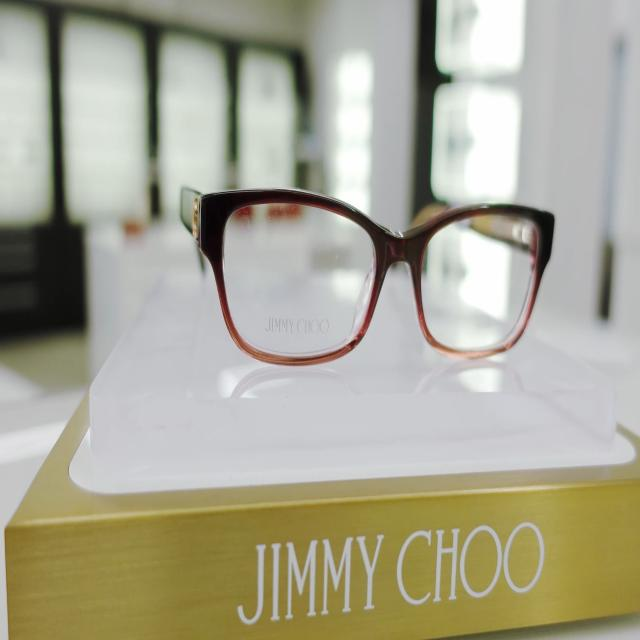glasses: (198, 188, 554, 363)
